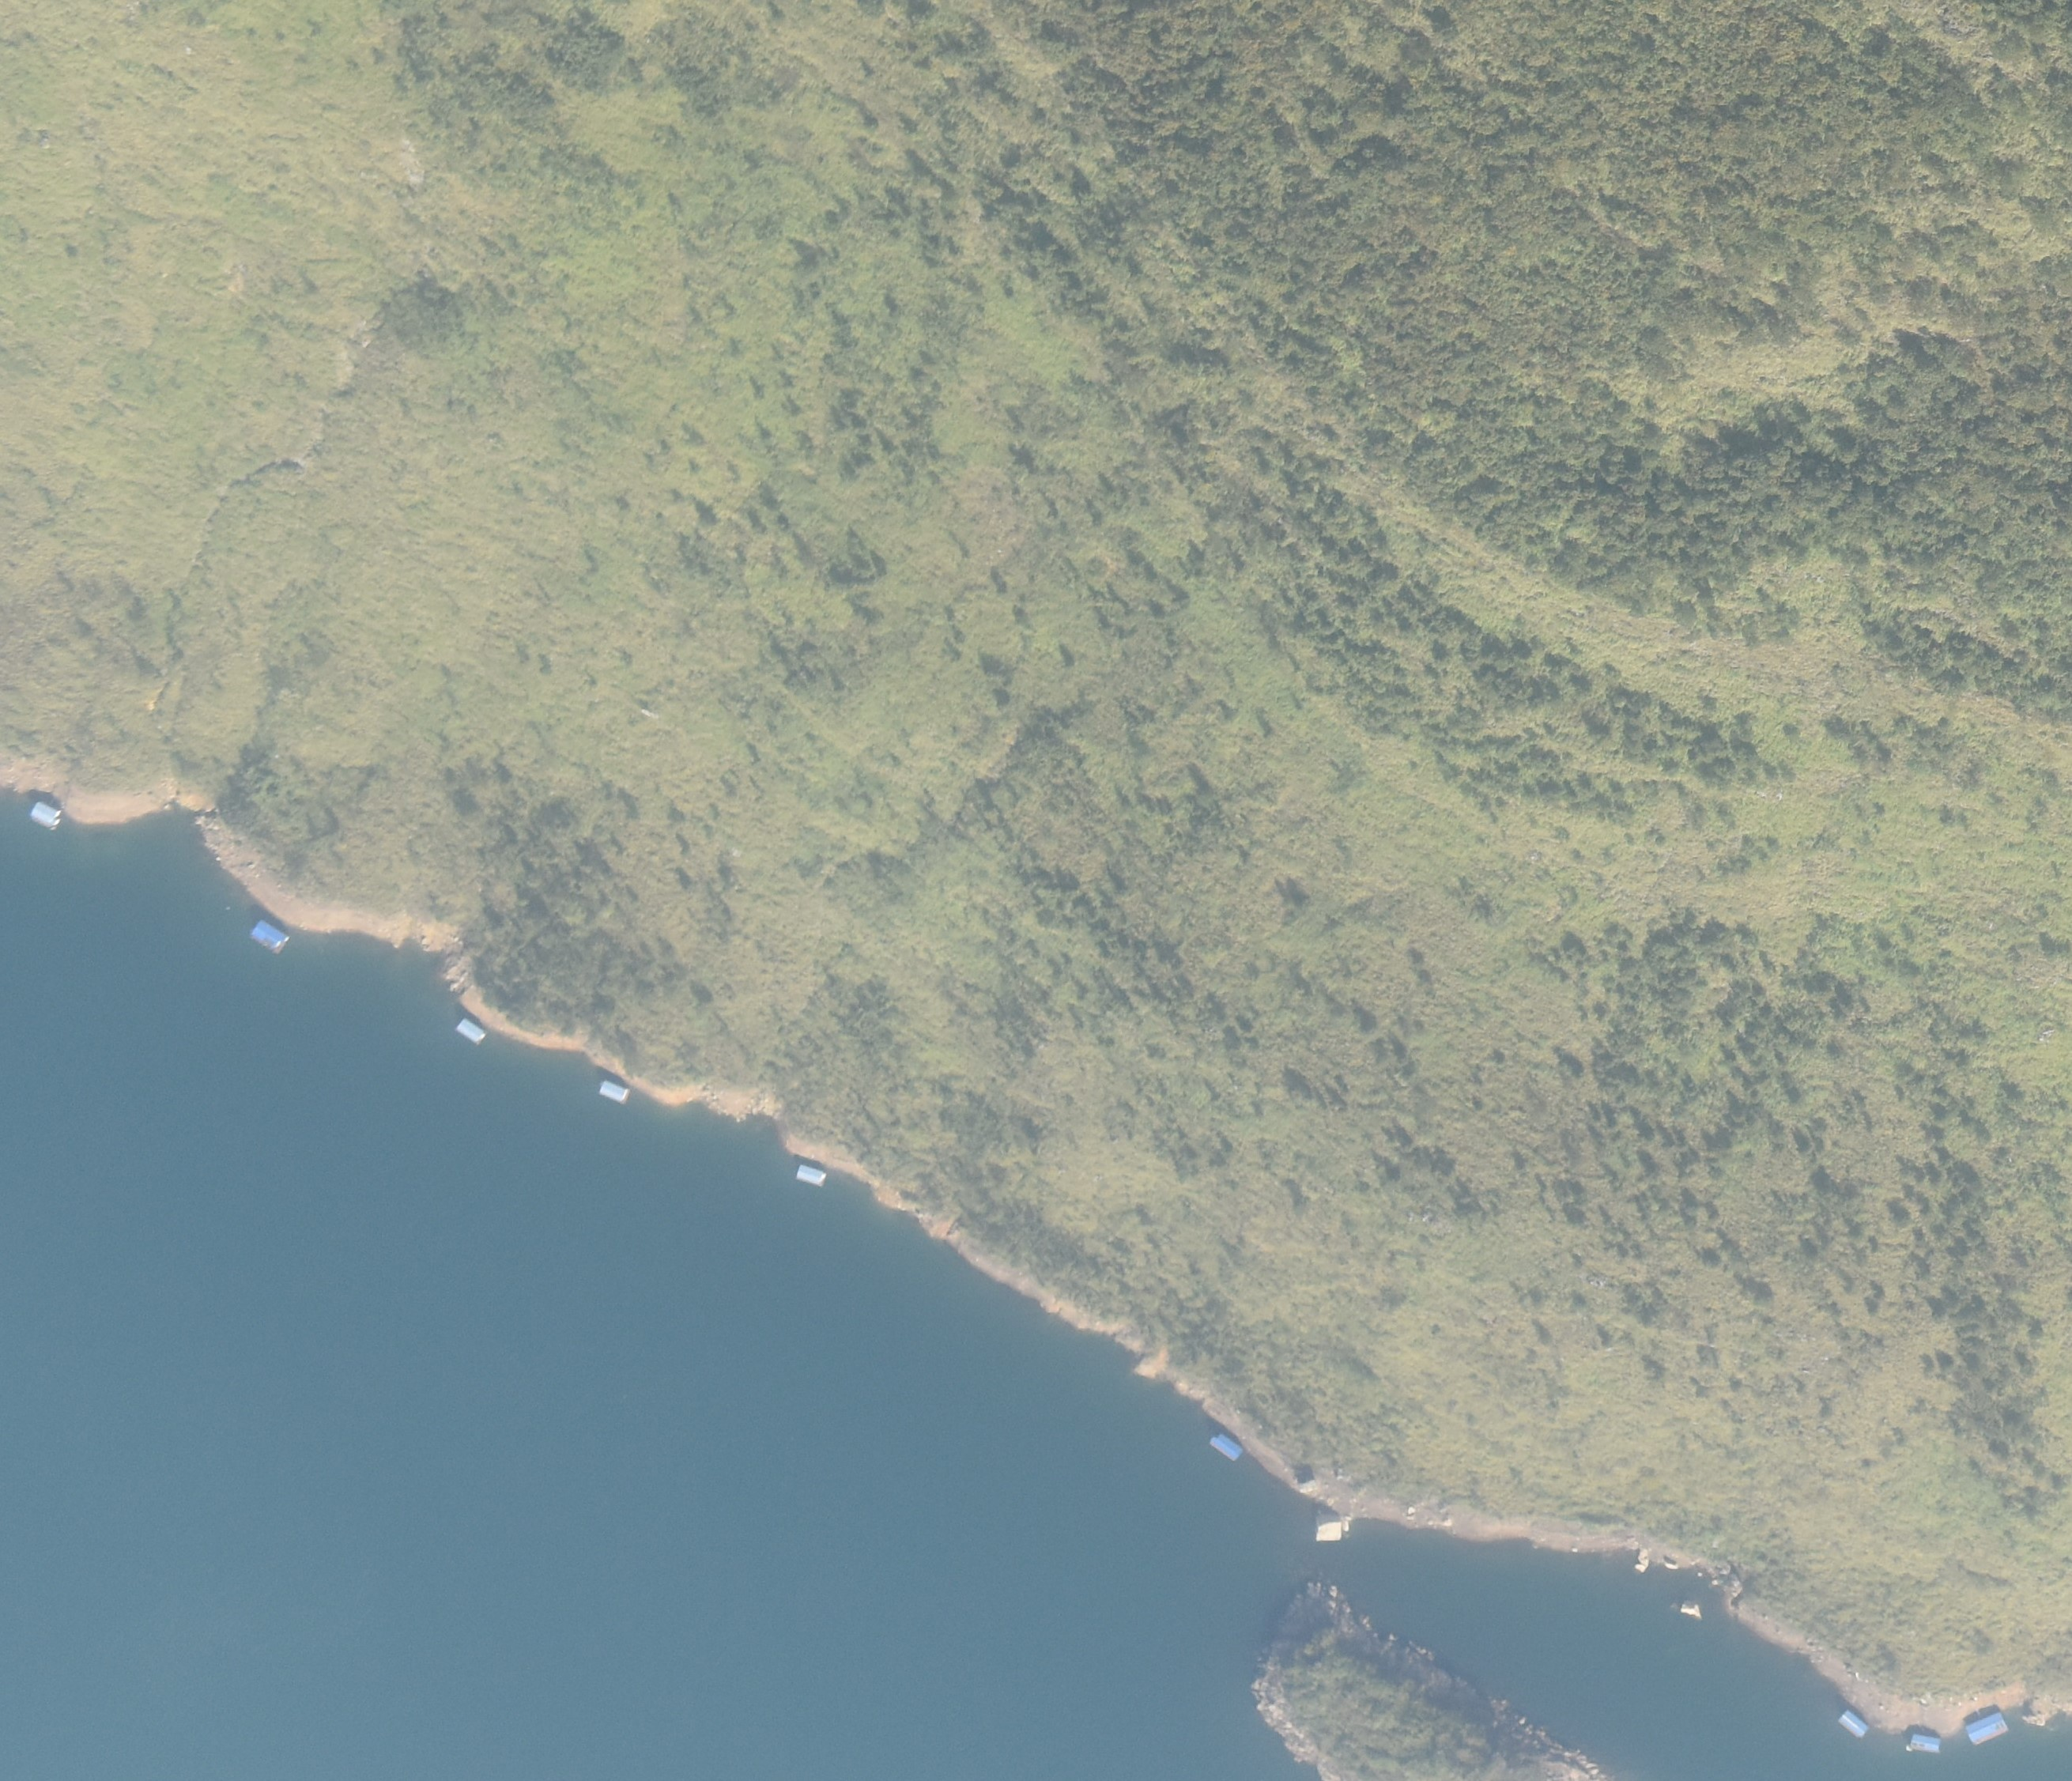prefabricated-house: (1965, 1711, 2006, 1745), (251, 919, 288, 955), (1209, 1431, 1241, 1463), (1836, 1707, 1869, 1734), (30, 800, 61, 828), (454, 1020, 486, 1043), (598, 1078, 629, 1101), (797, 1164, 825, 1186), (1913, 1735, 1938, 1752)
